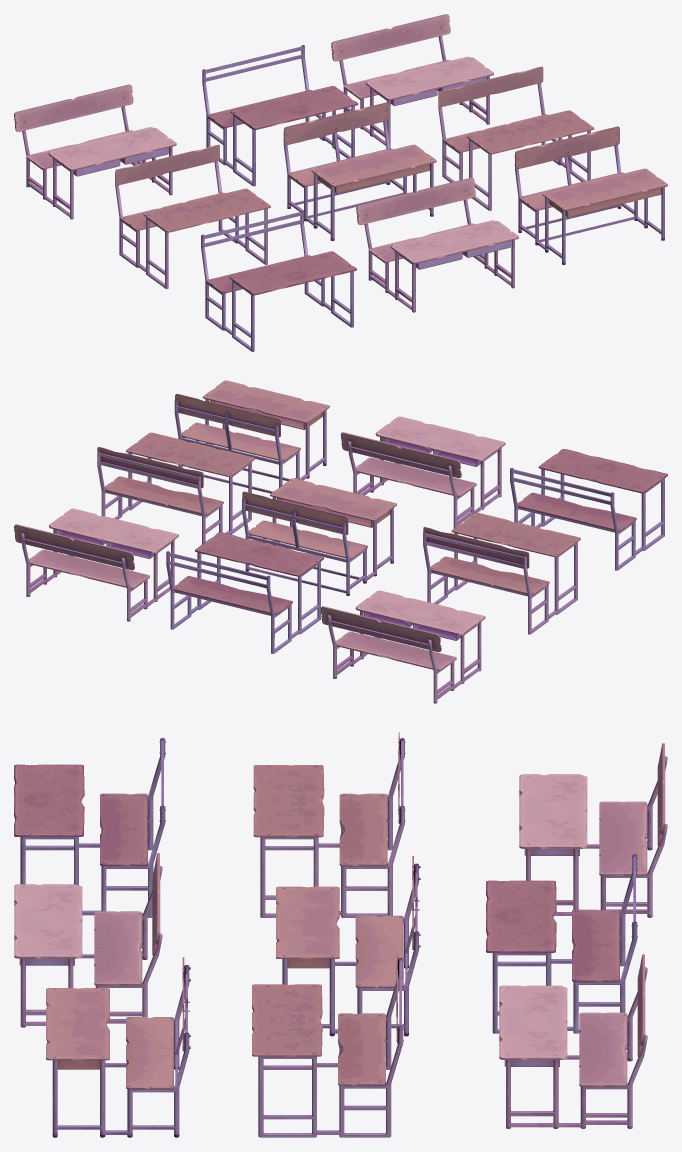
Rendered from pupitres.glb.
3 renders of one model, top to bottom at view 1: azimuth 30°, elevation 25°; view 2: azimuth 150°, elevation 25°; view 3: azimuth 270°, elevation 25°, orthographic. The views are drawn at different scales.
Parts seen in each view (by area): view 1: A2Pupitres; view 2: A2Pupitres; view 3: A2Pupitres.
Boxes of the visible parts, x1,y1,x2,y2 form: A2Pupitres: (14, 14, 667, 351); A2Pupitres: (14, 380, 667, 703); A2Pupitres: (14, 732, 667, 1137).
Size of the model in its own units: 8.74 by 1.61 by 8.18.
Materials: 4 (4 with a texture image).
